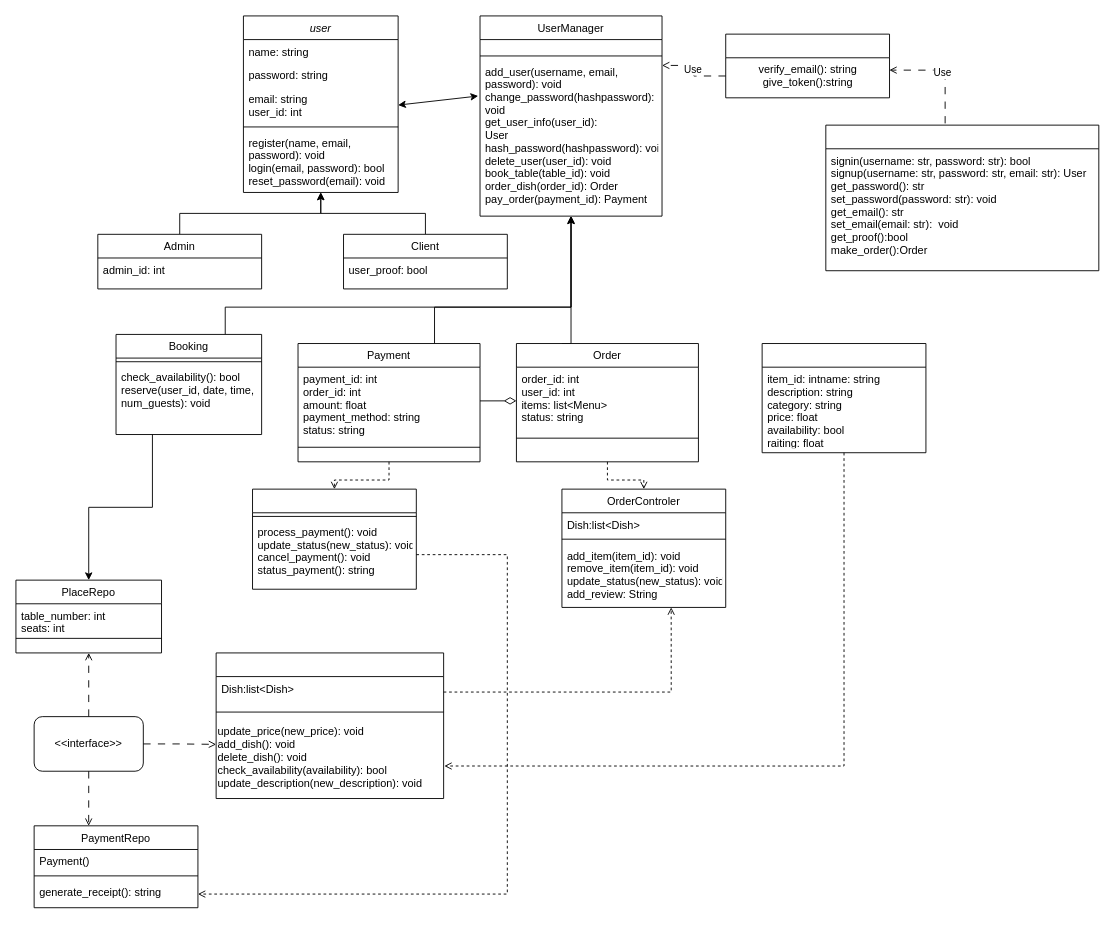
This 1115x926 diagram has some shape labels left out. The shapes that lost their labels are listed below. From the top down, each one's box as (x1, y1, x2, y2) in pixels, then its label:
(725, 33, 890, 98): AuthService
(825, 124, 1099, 271): Account Controller
(761, 343, 926, 453): Dish
(252, 488, 416, 589): PaymentController
(215, 652, 444, 799): MenuRepo
